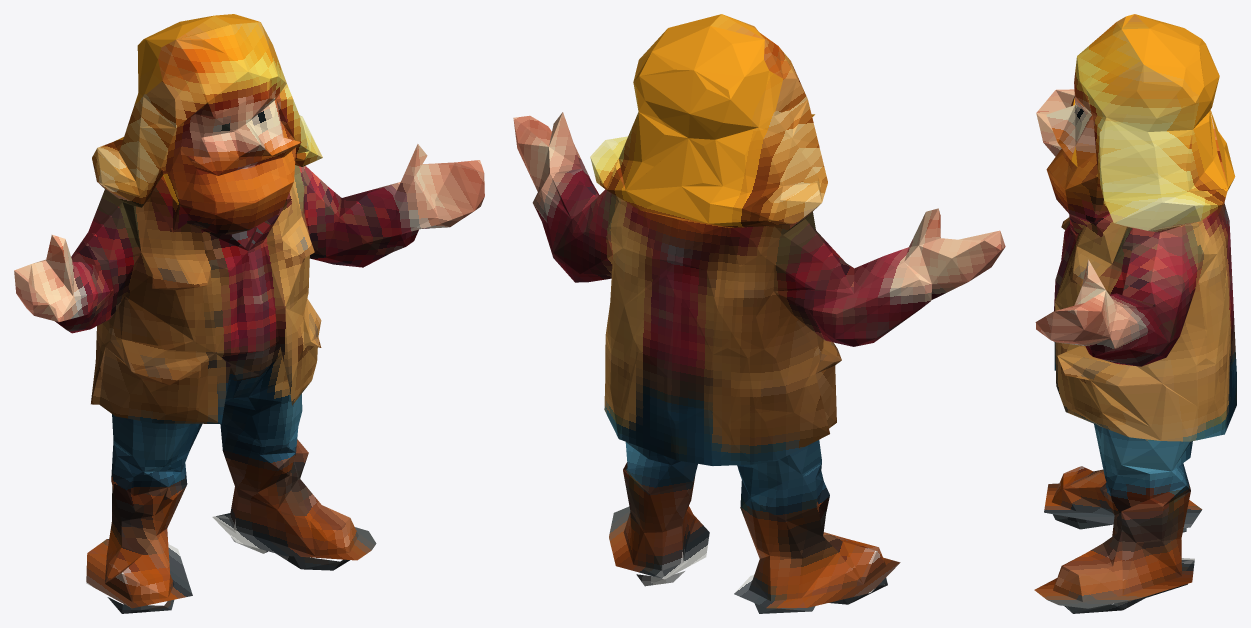
File: dan.glb
3 renders of one model, left to right at view 1: azimuth 30°, elevation 25°; view 2: azimuth 150°, elevation 25°; view 3: azimuth 270°, elevation 25°, orthographic. The views are drawn at different scales.
Visible parts, largest first — view 1: geometry_0; view 2: geometry_0; view 3: geometry_0.
Part boxes in pixels (left/top/right/bottom): geometry_0: left=14, top=14, right=484, bottom=613; geometry_0: left=513, top=14, right=1005, bottom=613; geometry_0: left=1034, top=14, right=1236, bottom=613.
Size of the model in its own units: 1.58 by 1.75 by 0.598.
1 material, 1 textured.
